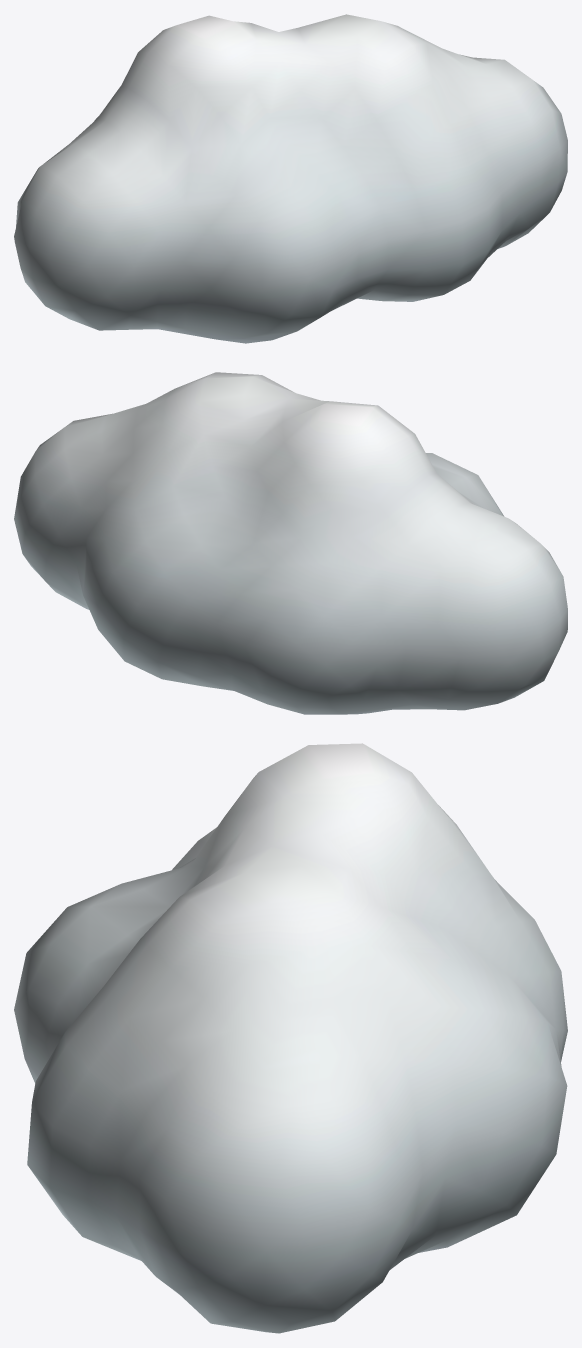
File: cloud-big.glb
The picture shows the model from 3 angles, top to bottom: view 1: azimuth 30°, elevation 25°; view 2: azimuth 150°, elevation 25°; view 3: azimuth 270°, elevation 25°; orthographic projection. The views are drawn at different scales.
Visible parts, largest first — view 1: cloud_big; view 2: cloud_big; view 3: cloud_big.
Part boxes in pixels (bbox=[...]): cloud_big: bbox=[14, 14, 567, 343]; cloud_big: bbox=[14, 372, 567, 714]; cloud_big: bbox=[14, 743, 567, 1333].
Size of the model in its own units: 3.61 by 1.95 by 2.24.
1 material, 1 textured.
